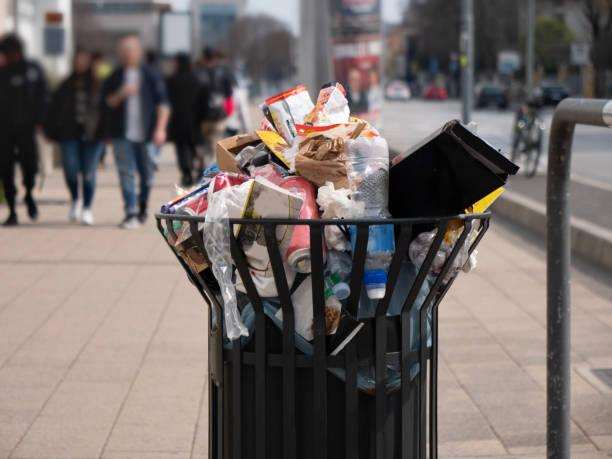trash: (179, 78, 489, 232)
trash_can_overflow: (121, 32, 502, 459)
